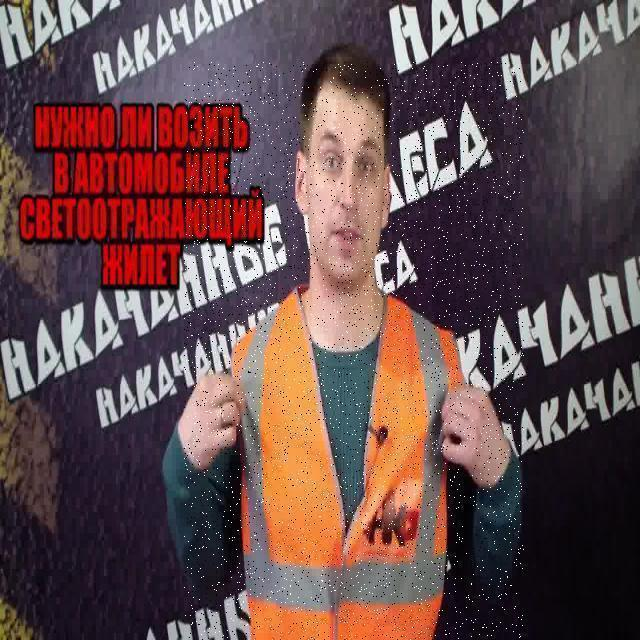vest: (226, 307, 458, 639)
